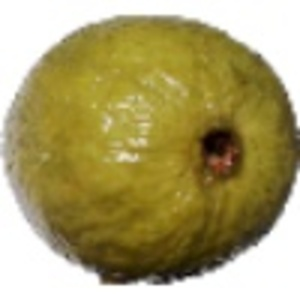goiaba: (3, 12, 297, 276)
